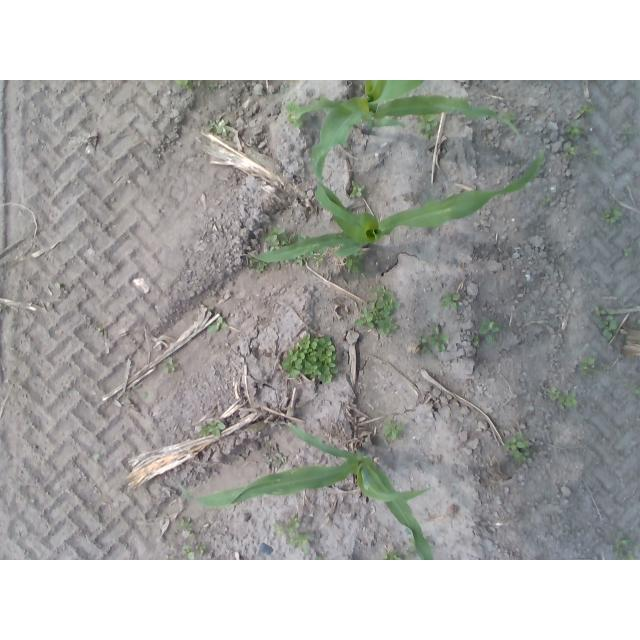Maize: (179, 420, 436, 560), (248, 152, 540, 265), (296, 80, 526, 180)
Weeds: (282, 334, 338, 382), (506, 434, 531, 462), (431, 326, 450, 351), (287, 533, 310, 552), (287, 103, 305, 126), (126, 389, 149, 405), (481, 320, 497, 343), (375, 301, 399, 316), (384, 421, 403, 439), (601, 316, 616, 338), (419, 113, 437, 131), (347, 255, 363, 273), (604, 210, 622, 226), (266, 227, 285, 242), (616, 531, 632, 548), (208, 420, 225, 436), (357, 313, 375, 328), (560, 391, 577, 406), (442, 294, 461, 307), (378, 317, 394, 332), (273, 522, 293, 534), (163, 358, 178, 374), (207, 318, 223, 331), (182, 545, 195, 559), (565, 124, 579, 137), (210, 121, 223, 135), (176, 80, 196, 89), (351, 183, 363, 198), (582, 359, 596, 371), (181, 518, 193, 531), (375, 286, 386, 300), (289, 516, 299, 529), (386, 552, 402, 560), (595, 306, 605, 316), (194, 429, 206, 437), (551, 388, 559, 400), (505, 113, 515, 122), (624, 248, 633, 258), (623, 129, 631, 140), (196, 545, 207, 553), (565, 148, 576, 156), (406, 546, 414, 556), (579, 105, 590, 112), (592, 150, 600, 158), (616, 550, 624, 558), (628, 550, 635, 559), (420, 339, 429, 346)
